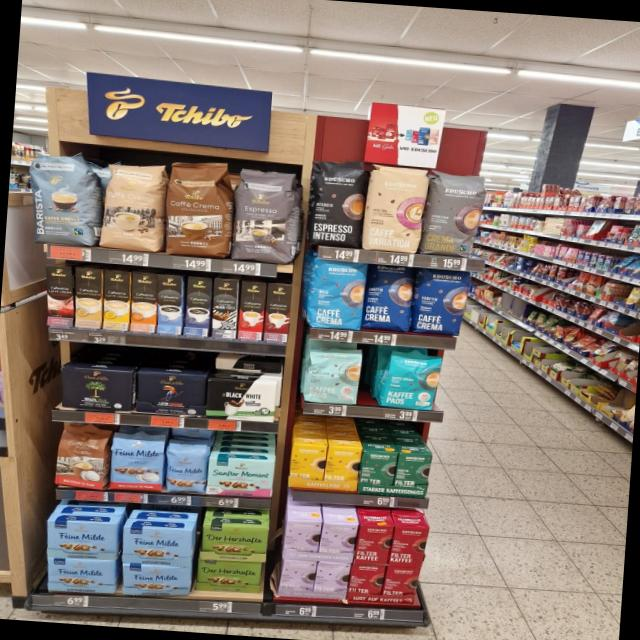BM Gemahlen: (56, 365, 135, 413)
BW Gemahlen: (205, 376, 278, 423)
Barista CC: (23, 150, 104, 248)
CC Mild: (100, 162, 168, 251)
CC Vollmundig: (53, 423, 110, 490)
CC Vollmundig 36 Pads: (163, 160, 236, 260)
Espresso M Art: (230, 168, 302, 266)
FM 36 Pads: (108, 431, 166, 494)
FM Bohne: (162, 444, 209, 496)
FM Gemahlen: (43, 518, 119, 562), (42, 556, 118, 596), (120, 526, 196, 566), (118, 562, 193, 599)
Herzhatfe Mundig: (198, 522, 268, 564), (195, 556, 263, 594)
LG Gemahlen: (134, 370, 207, 418)
SM Gemahlen: (206, 456, 276, 498)
Simo CC Colombia: (46, 265, 73, 326)
Simo CCMild bigpack: (103, 269, 130, 330)
Simo CCVollmundig bigpack: (130, 271, 157, 333)
Simo Decaff: (75, 267, 102, 328)
Simo Es Brazil: (238, 281, 266, 340)
Simo Es Caramel: (263, 282, 291, 342)
Simo Es Elegant: (210, 278, 238, 338)
Simo Es Kraft: (183, 276, 211, 338)
Simo Es Vanilla: (157, 273, 182, 334)
